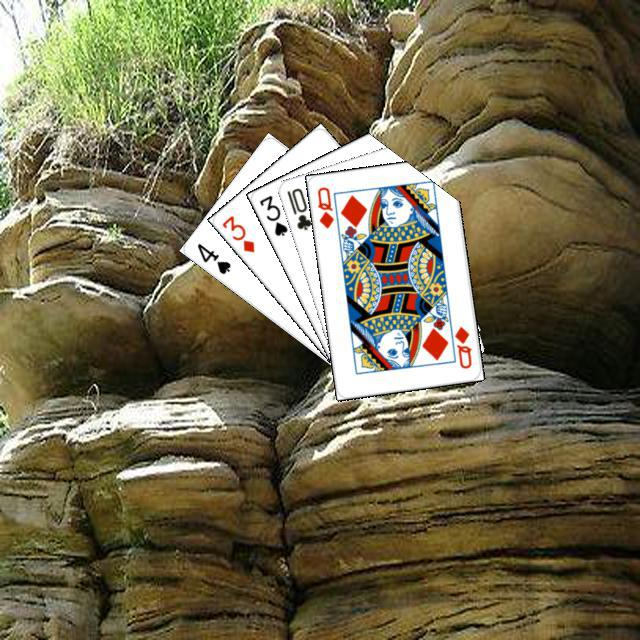10c: (282, 183, 313, 232)
3d: (217, 210, 256, 254)
3s: (254, 190, 290, 238)
4s: (192, 238, 233, 276)
Qd: (450, 321, 473, 370), (312, 182, 335, 230)
